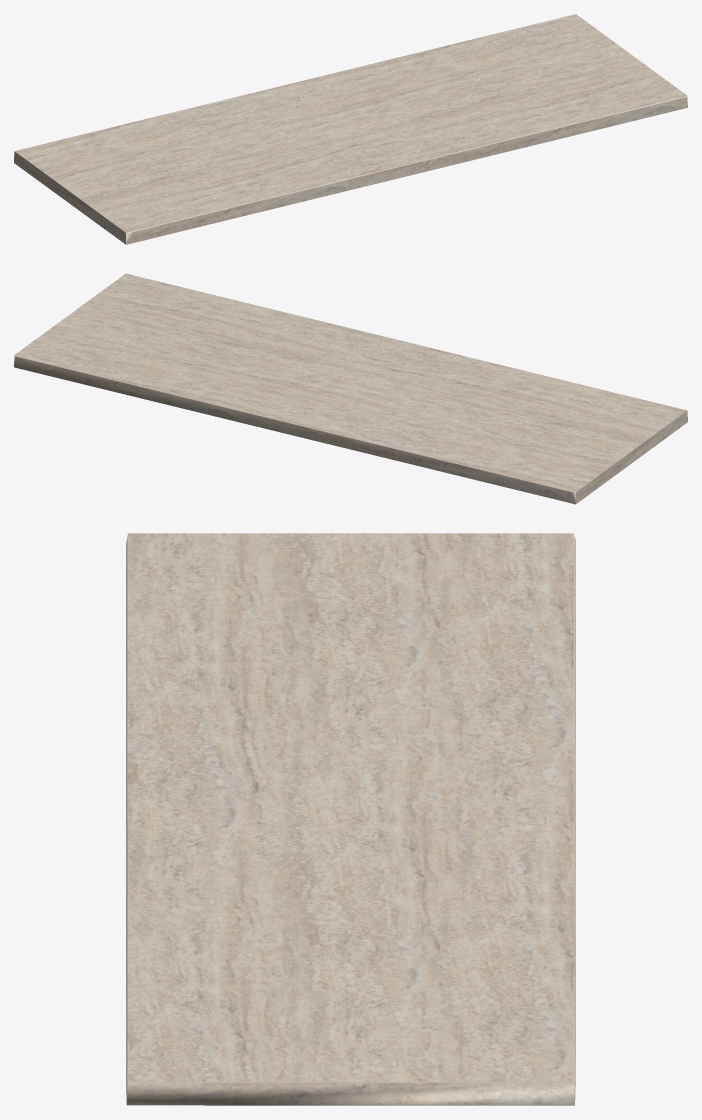
File: S_LJAN_80439214.glb
3 renders of one model, top to bottom at view 1: azimuth 30°, elevation 25°; view 2: azimuth 150°, elevation 25°; view 3: azimuth 270°, elevation 25°, orthographic. The views are drawn at different scales.
Visible parts, largest first — view 1: ProcessedMeshNode; view 2: ProcessedMeshNode; view 3: ProcessedMeshNode.
Boxes of the visible parts, x1=… form: ProcessedMeshNode: x1=14, y1=14, x2=687, y2=244; ProcessedMeshNode: x1=14, y1=273, x2=687, y2=504; ProcessedMeshNode: x1=126, y1=533, x2=575, y2=1105.
Bounding box in the file's own units: 1.88 × 0.0388 × 0.6506.
Materials: 1 (1 with a texture image).
